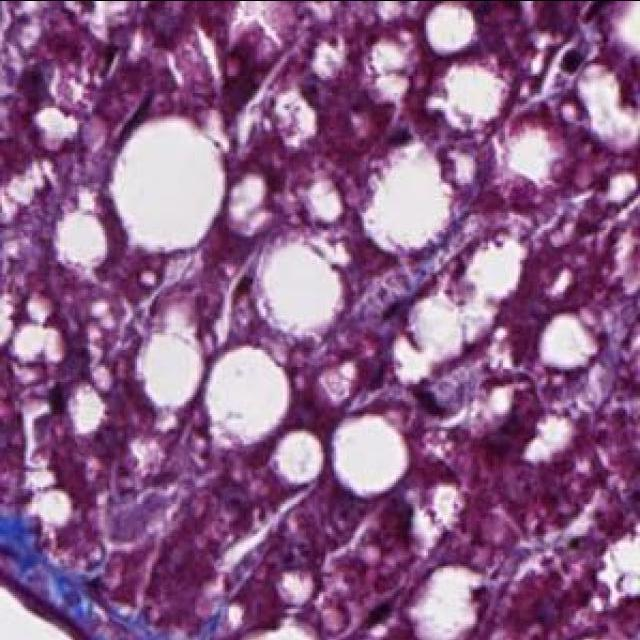steatosis: (111, 116, 225, 250), (206, 346, 289, 442), (259, 241, 341, 332), (333, 414, 409, 495), (138, 332, 202, 406), (272, 429, 324, 484), (541, 314, 596, 366), (57, 210, 106, 268), (426, 2, 475, 52)
